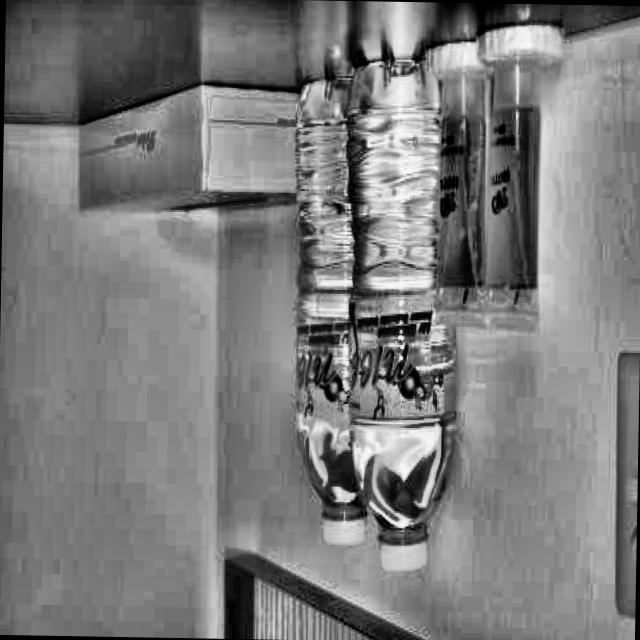waterbottle: (328, 46, 468, 583), (282, 62, 402, 557)
